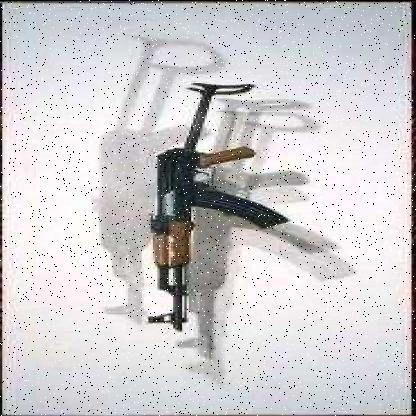rifle: (133, 76, 310, 347)
